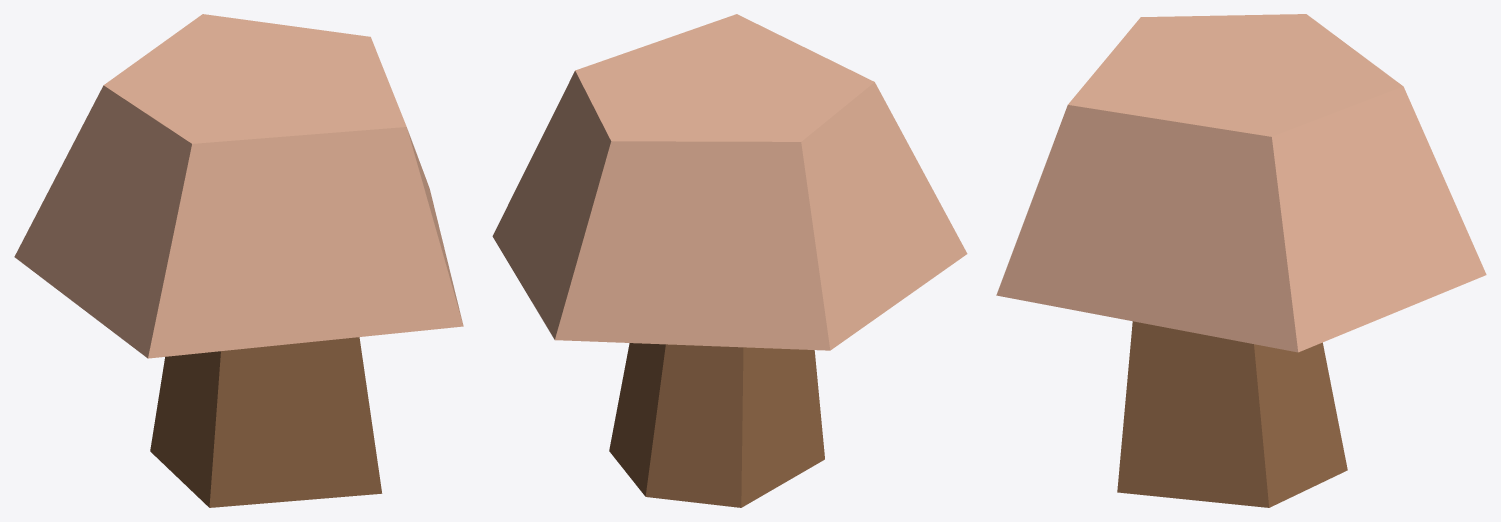
The model's file is Mushroom_01.fbx.
3 renders of one model, left to right at view 1: azimuth 30°, elevation 25°; view 2: azimuth 150°, elevation 25°; view 3: azimuth 270°, elevation 25°, orthographic. The views are drawn at different scales.
Visible parts, largest first — view 1: Mushroom_01; view 2: Mushroom_01; view 3: Mushroom_01.
Boxes of the visible parts, box(x1,y1,x2,y2) form: Mushroom_01: box(14, 14, 463, 507); Mushroom_01: box(492, 14, 967, 507); Mushroom_01: box(996, 14, 1486, 507).
Size of the model in its own units: 40.21 by 38.34 by 43.96.
